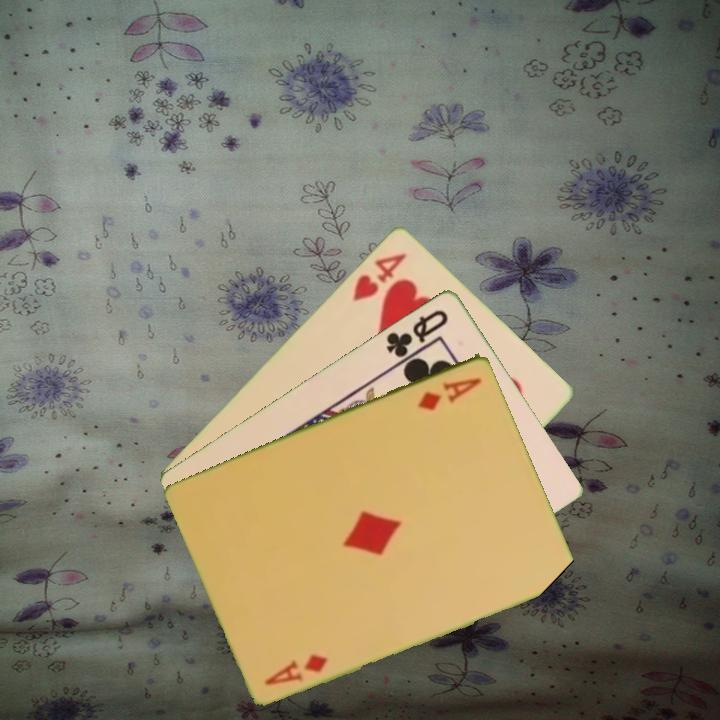4h: (348, 249, 410, 304)
Ad: (414, 373, 485, 413), (261, 650, 331, 688)
Qc: (382, 305, 452, 360)
